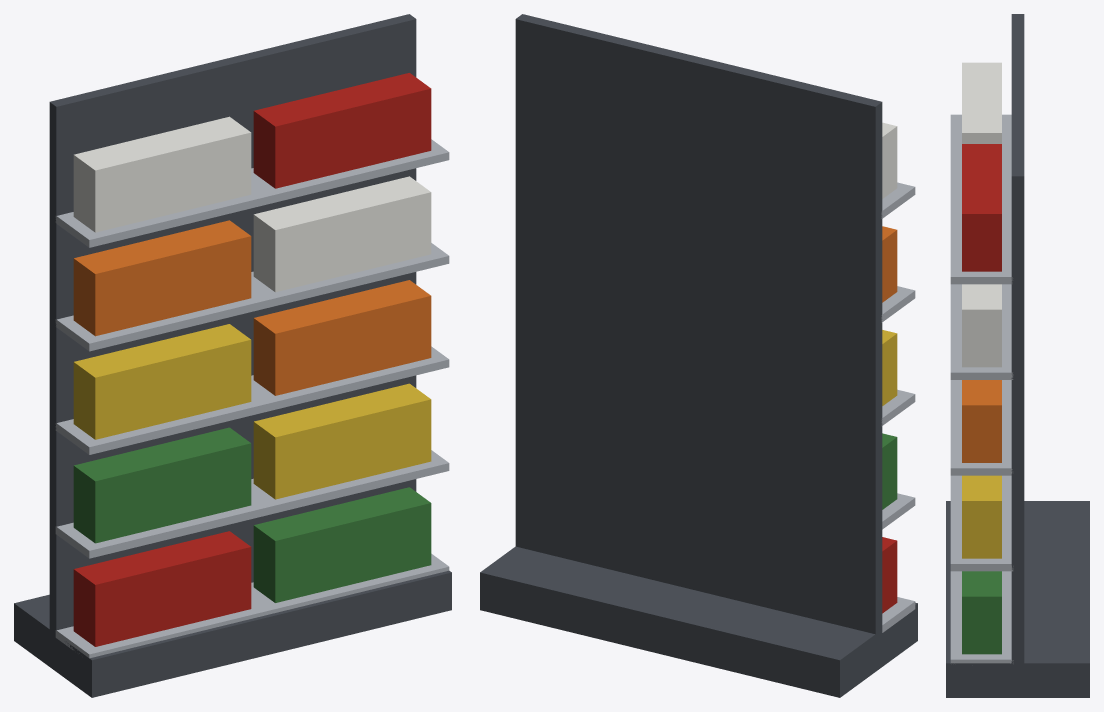
The model's file is store shelf.glb.
3 views of the same model, side by side, from view 1: azimuth 30°, elevation 25°; view 2: azimuth 150°, elevation 25°; view 3: azimuth 270°, elevation 25° (orthographic). The views are drawn at different scales.
Parts seen in each view (by area): view 1: store shelf; view 2: store shelf; view 3: store shelf.
Part boxes in pixels (x1,y1,x2,y2): store shelf: (14,14,451,697); store shelf: (480,14,917,697); store shelf: (946,14,1089,697).
Size of the model in its own units: 1.2 by 1.8 by 0.45.
